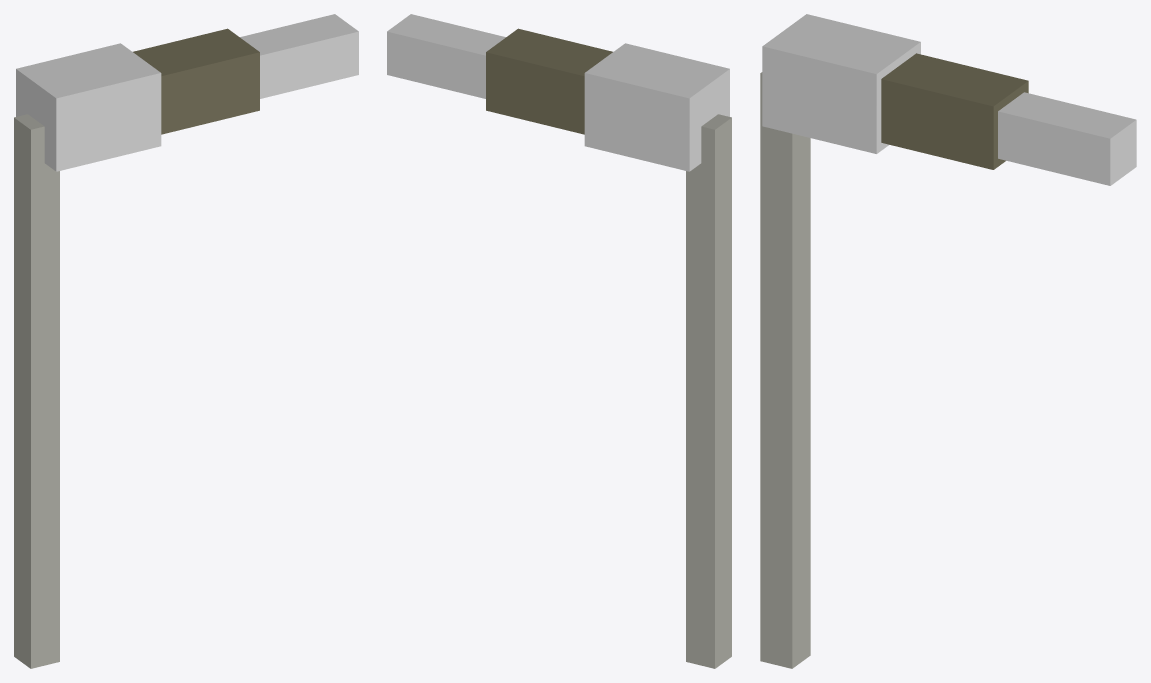
The model's file is SM_MangaViento_v0_Inflada_LOD1.fbx.
The picture shows the model from 3 angles, left to right: view 1: azimuth 30°, elevation 25°; view 2: azimuth 150°, elevation 25°; view 3: azimuth 330°, elevation 25°; orthographic projection. The views are drawn at different scales.
Visible parts, largest first — view 1: SM_ambiente_aerodromo_v0_LOD1; view 2: SM_ambiente_aerodromo_v0_LOD1; view 3: SM_ambiente_aerodromo_v0_LOD1.
Part boxes in pixels (x1,y1,x2,y2): SM_ambiente_aerodromo_v0_LOD1: [14, 14, 358, 668]; SM_ambiente_aerodromo_v0_LOD1: [387, 14, 731, 668]; SM_ambiente_aerodromo_v0_LOD1: [760, 14, 1136, 668].
Bounding box in the file's own units: 3.78 × 6.41 × 0.8167.
